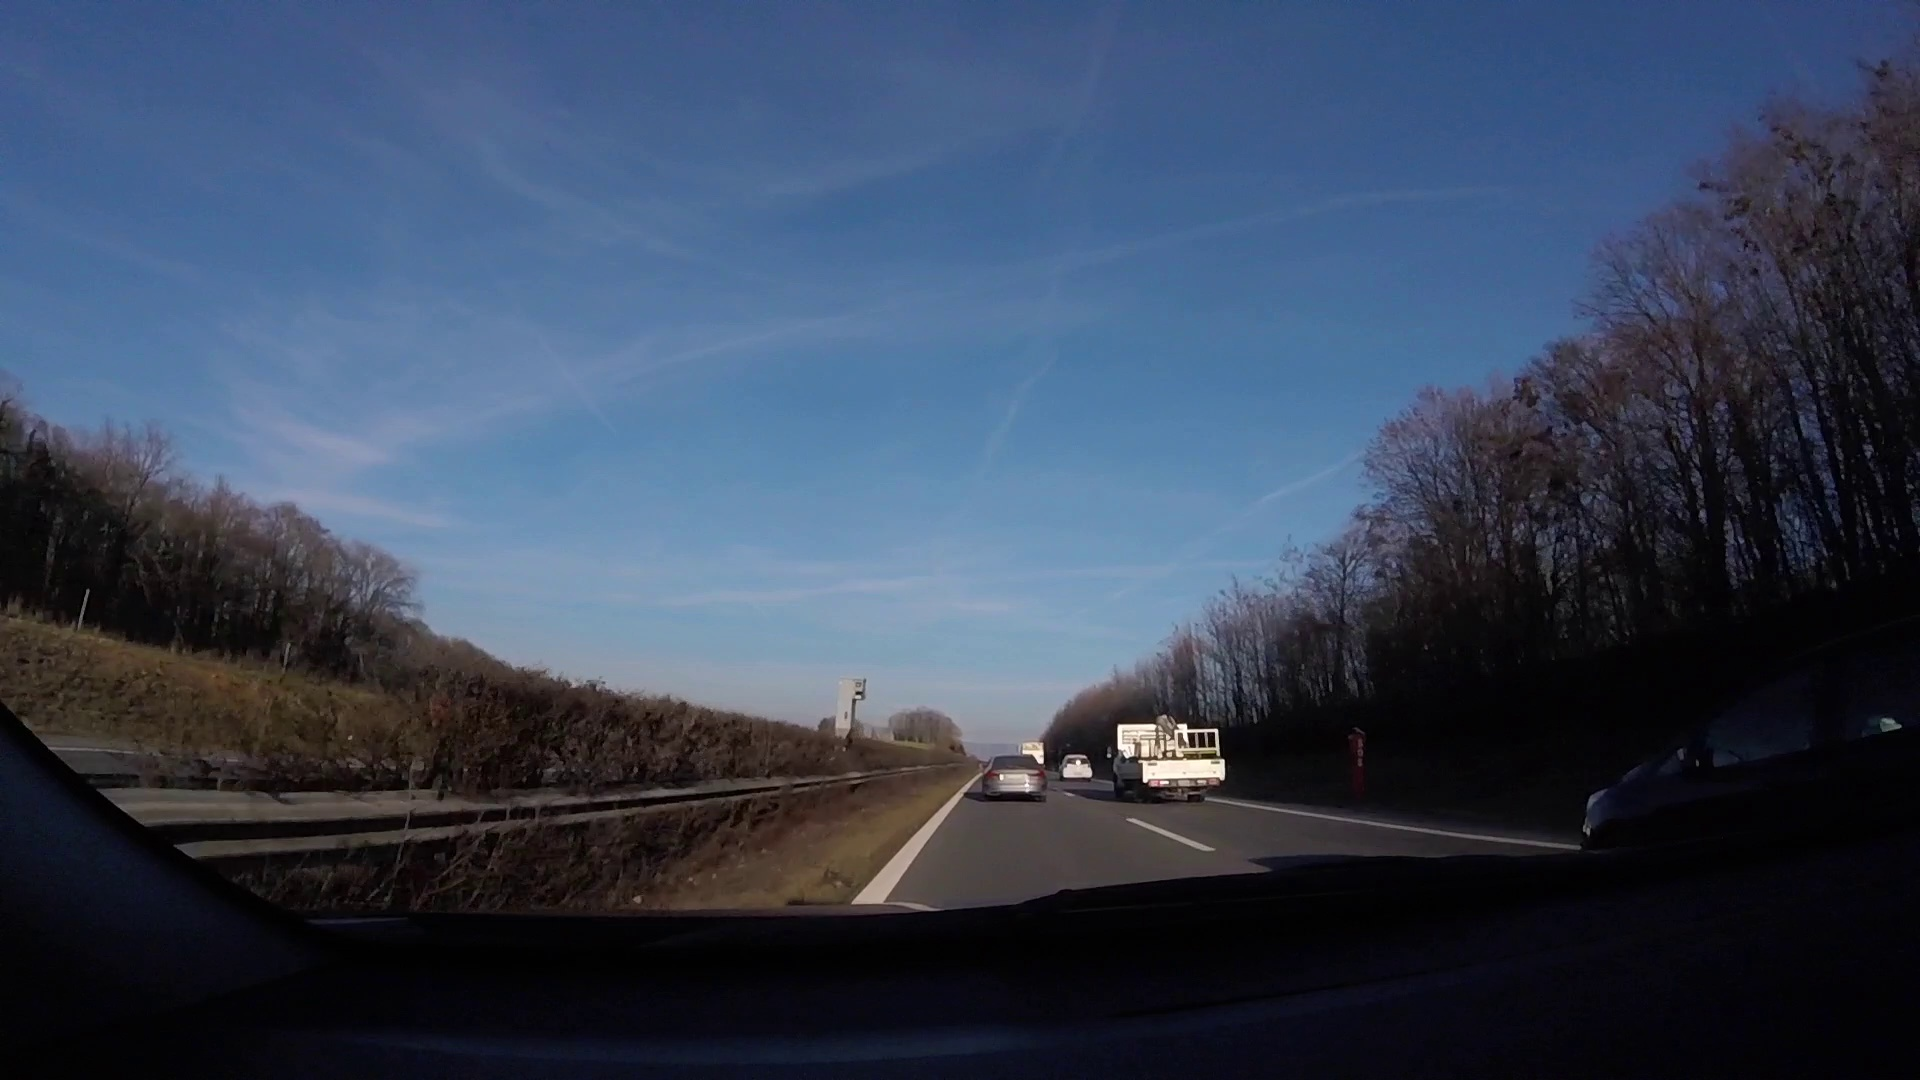radar: (833, 674, 868, 742)
